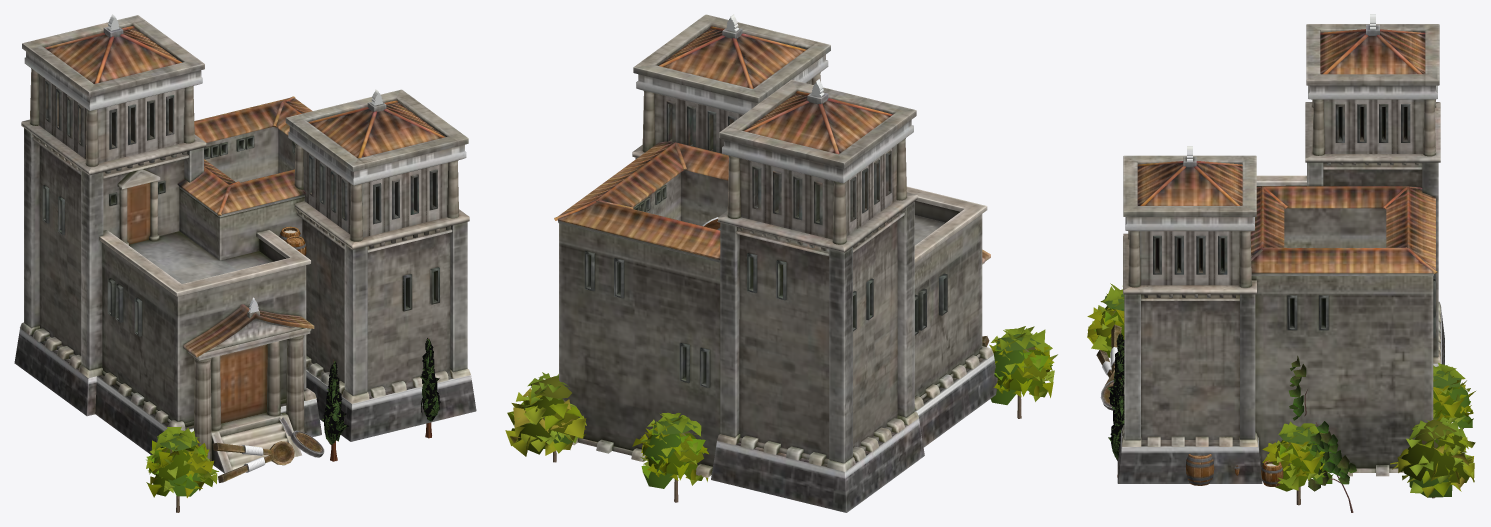
The model's file is 57-fortress.glb.
3 renders of one model, left to right at view 1: azimuth 30°, elevation 25°; view 2: azimuth 150°, elevation 25°; view 3: azimuth 270°, elevation 25°, orthographic. The views are drawn at different scales.
Size of the model in its own units: 10.79 by 11.84 by 10.7.
Materials: 14 (12 with a texture image).
